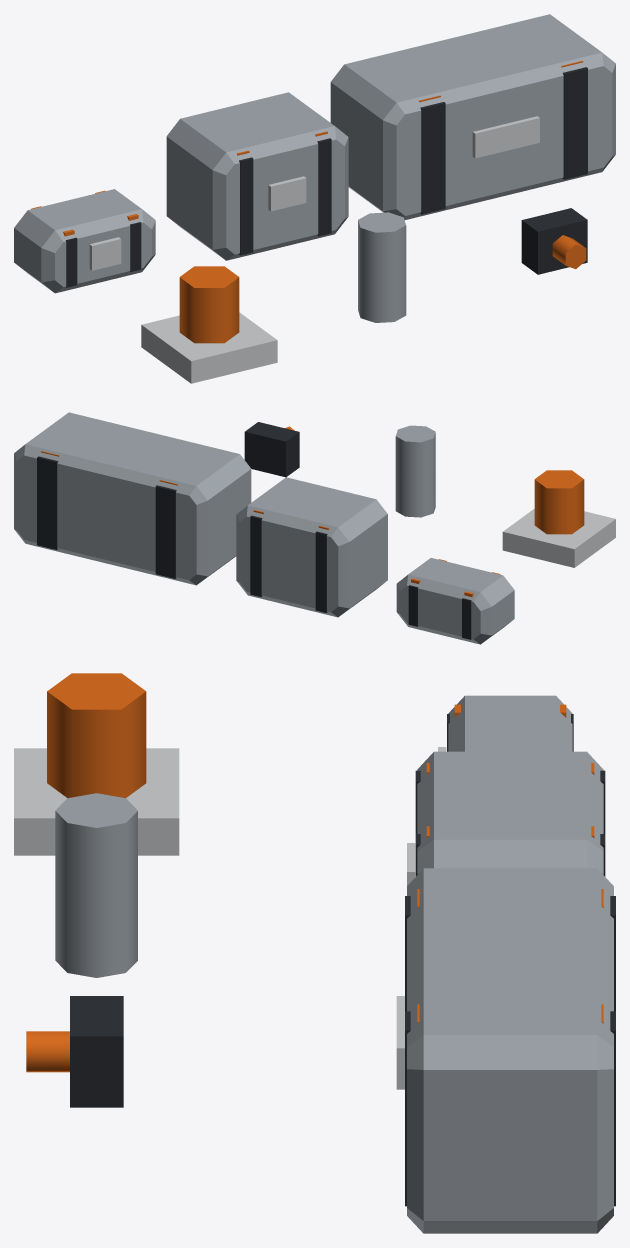
Rendered from props.glb.
3 renders of one model, top to bottom at view 1: azimuth 30°, elevation 25°; view 2: azimuth 150°, elevation 25°; view 3: azimuth 270°, elevation 25°, orthographic. The views are drawn at different scales.
Parts seen in each view (by area): view 1: static_body_mesh.013; view 2: static_body_mesh.013; view 3: static_body_mesh.013.
Boxes of the visible parts, x1=… form: static_body_mesh.013: x1=14, y1=14, x2=615, y2=383; static_body_mesh.013: x1=14, y1=412, x2=615, y2=644; static_body_mesh.013: x1=14, y1=673, x2=615, y2=1233.
Size of the model in its own units: 2.61 by 0.5298 by 1.46.
